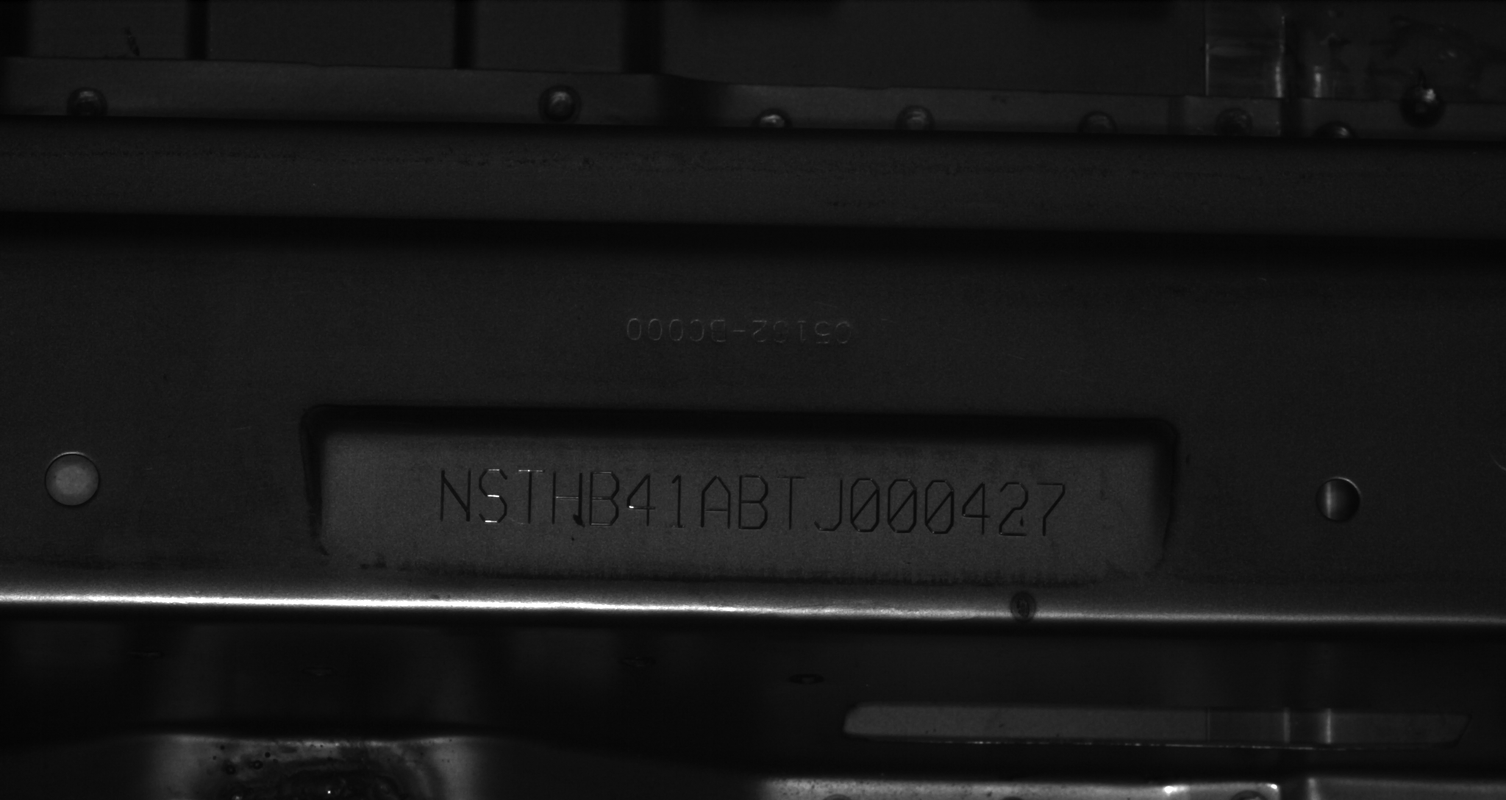bl7m_vin_plate: (313, 434, 1160, 582)
